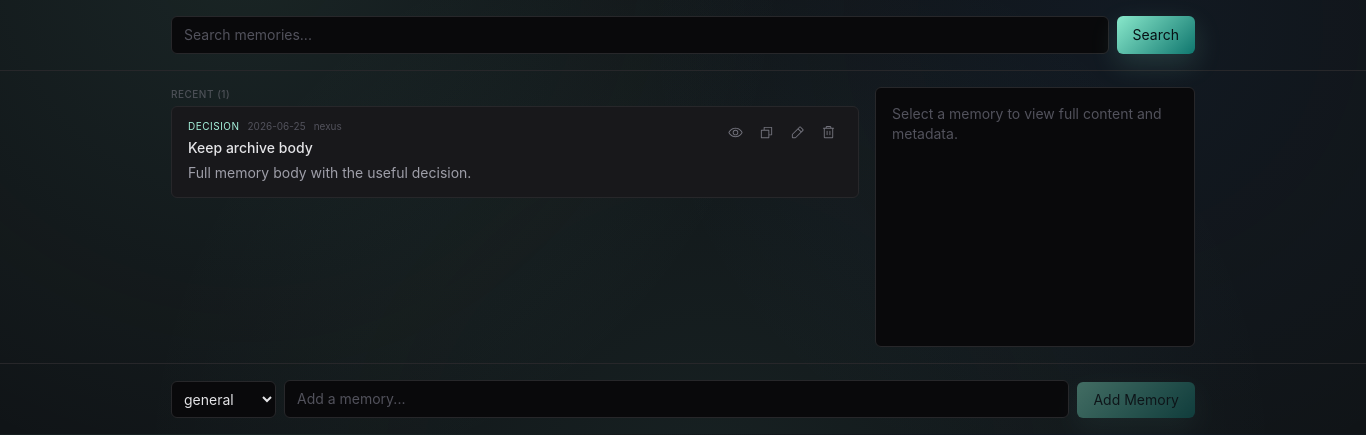
Scenario: MemoryView › renders search results as actionable records instead of anonymous strings
Type "archive" into the field with placeholder "Search memories..." at {"x": 640, "y": 35}, box [171,16,1108,54]
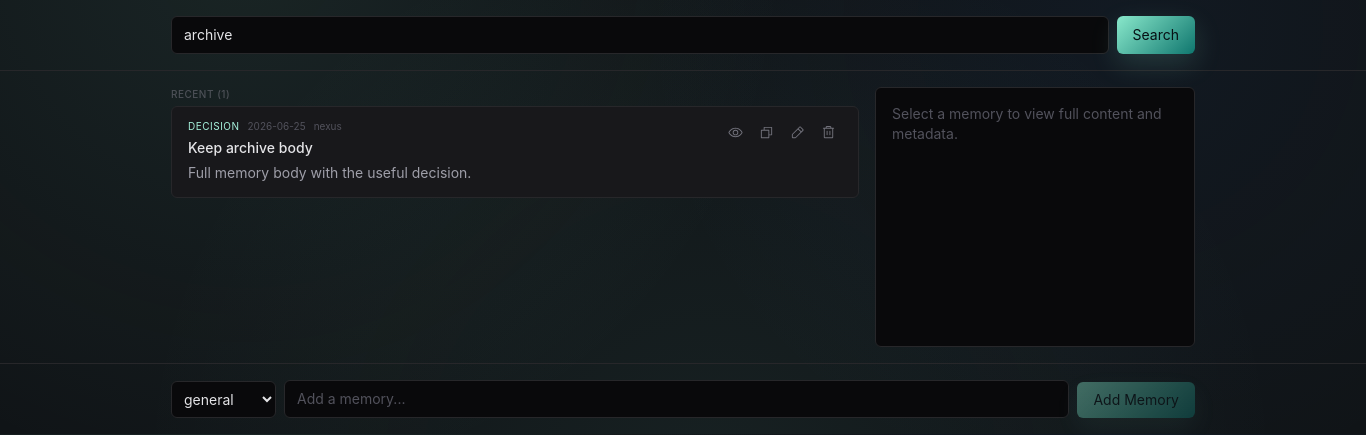
Click the button "Search" at {"x": 1156, "y": 35}, box [1116,16,1195,54]
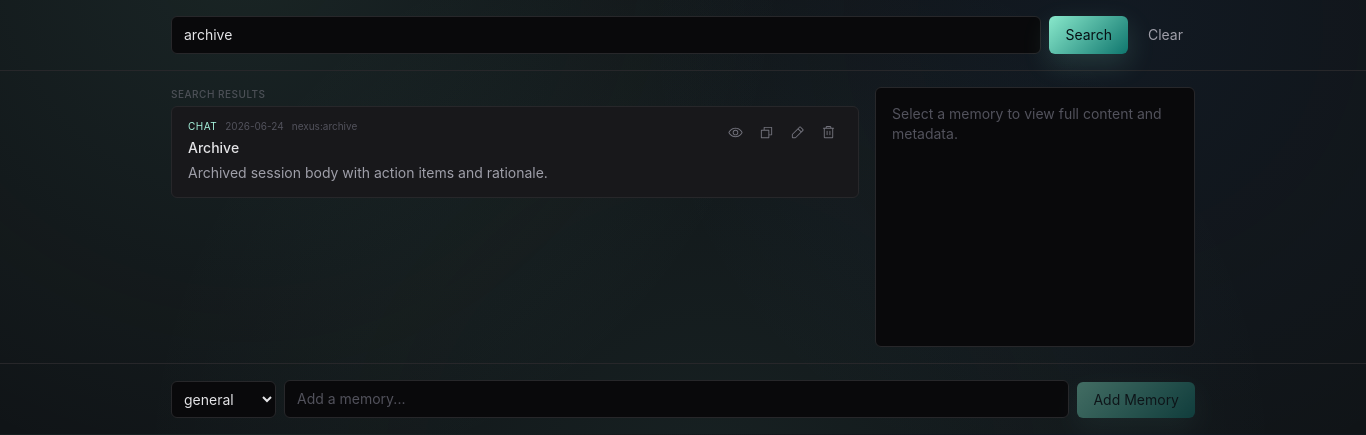
Expected: the button named "Edit memory" is shown, [784,119,811,146]
Expected: the text "Archived session body with action items and rationale." is shown, [188,119,710,185]
Expected: the text "chat" is shown, [188,119,217,134]
